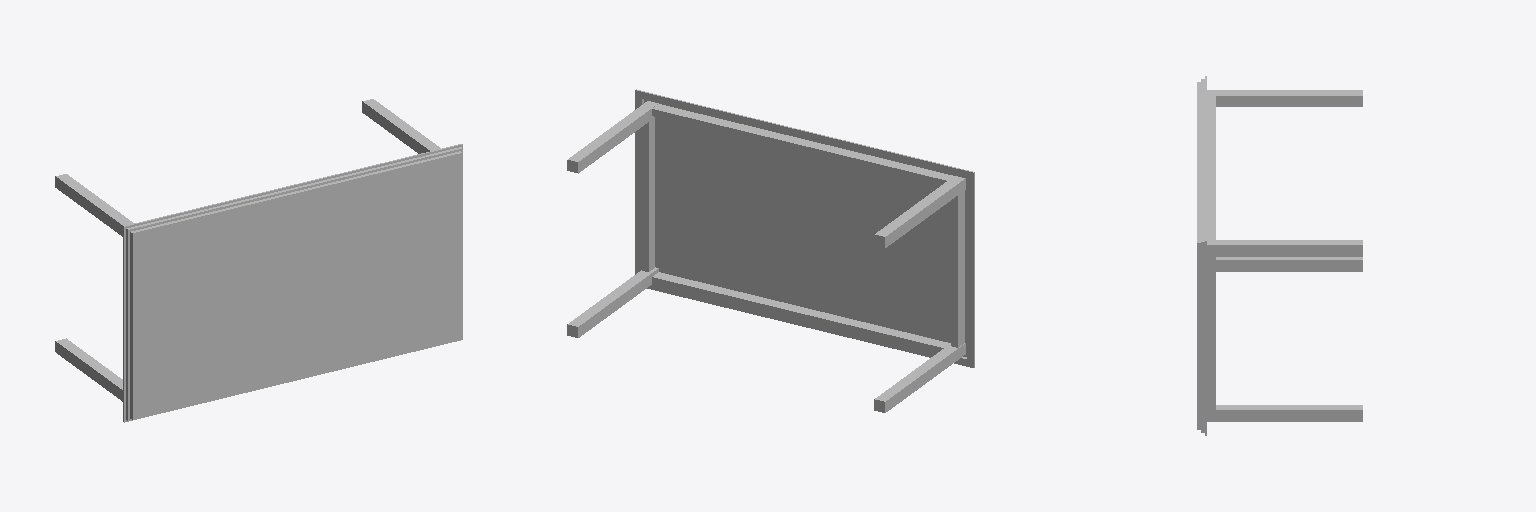
Rendered from table.obj.
3 renders of one model, left to right at view 1: azimuth 30°, elevation 25°; view 2: azimuth 150°, elevation 25°; view 3: azimuth 270°, elevation 25°, orthographic.
Size of the model in its own units: 2 by 1.1 by 0.851.